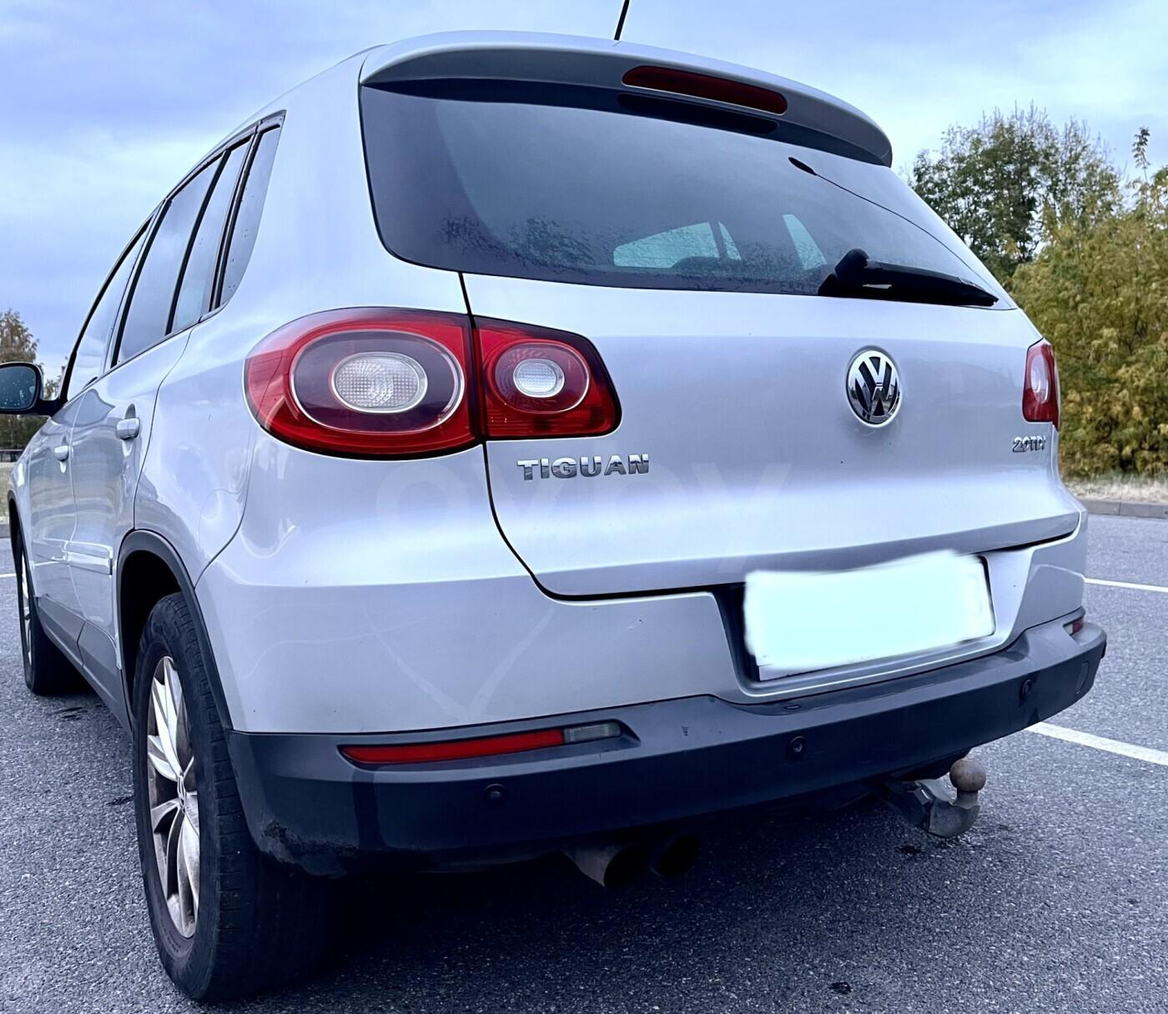Tiguan_2007-2011: (1, 33, 1114, 988)
